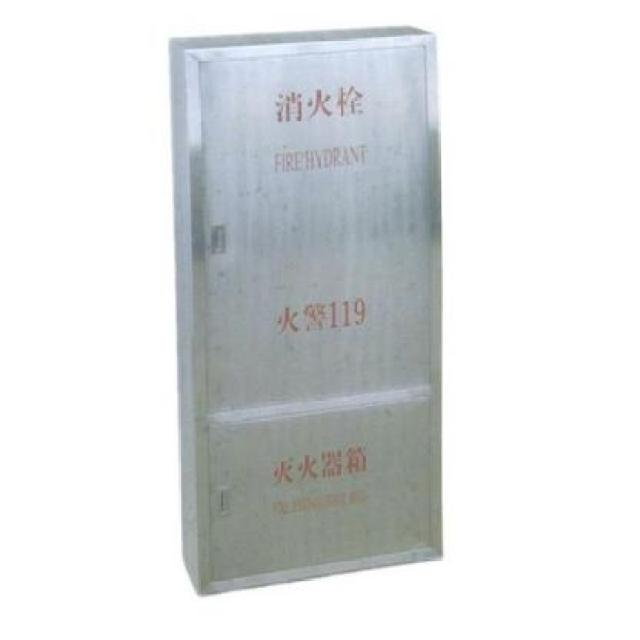firehydrant: (163, 22, 447, 600)
